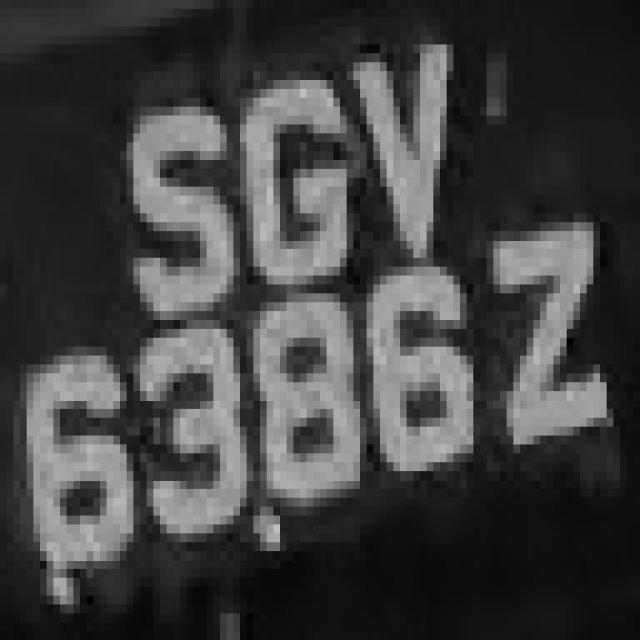3: (133, 320, 247, 569)
6: (7, 329, 126, 569), (354, 249, 474, 480)
8: (220, 284, 360, 524)
G: (213, 53, 360, 311)
S: (120, 89, 240, 329)
V: (334, 44, 454, 294)
Z: (460, 222, 613, 471)
